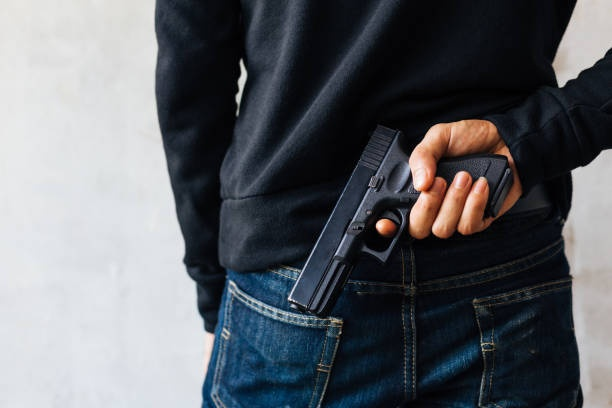gun: (284, 118, 516, 322)
